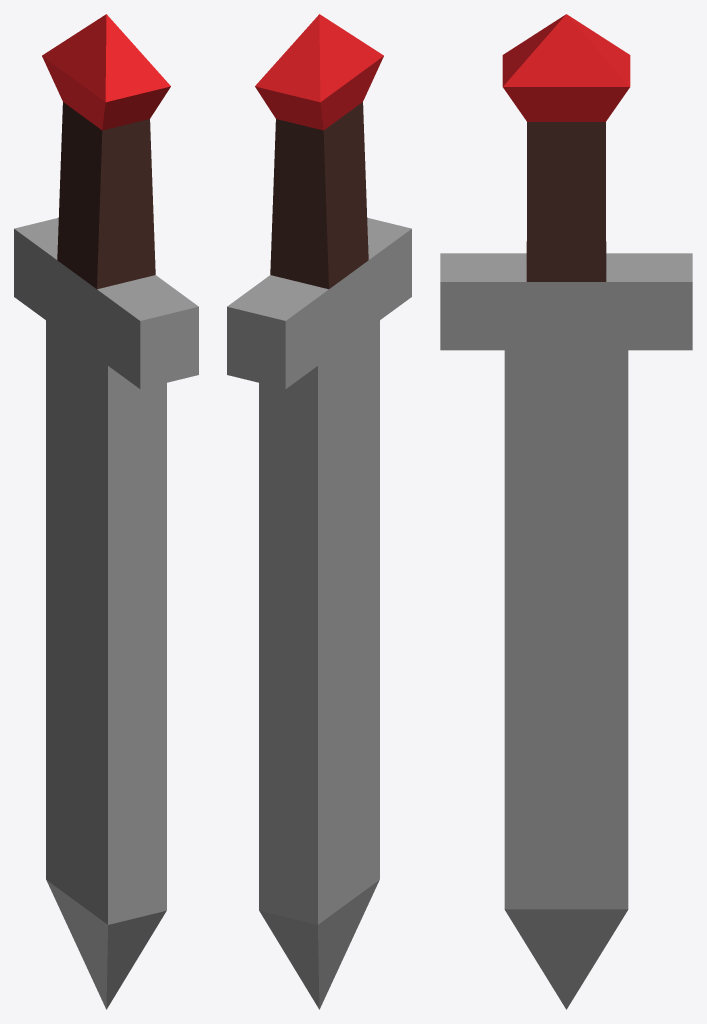
Rendered from espada.fbx.
The picture shows the model from 3 angles, left to right: view 1: azimuth 30°, elevation 25°; view 2: azimuth 150°, elevation 25°; view 3: azimuth 270°, elevation 25°; orthographic projection.
Visible parts, largest first — view 1: Cube; view 2: Cube; view 3: Cube.
Boxes of the visible parts, x1,y1,x2,y2 form: Cube: (14, 14, 198, 1009); Cube: (227, 14, 411, 1009); Cube: (440, 14, 692, 1009).
Size of the model in its own units: 122 by 1773 by 407.
